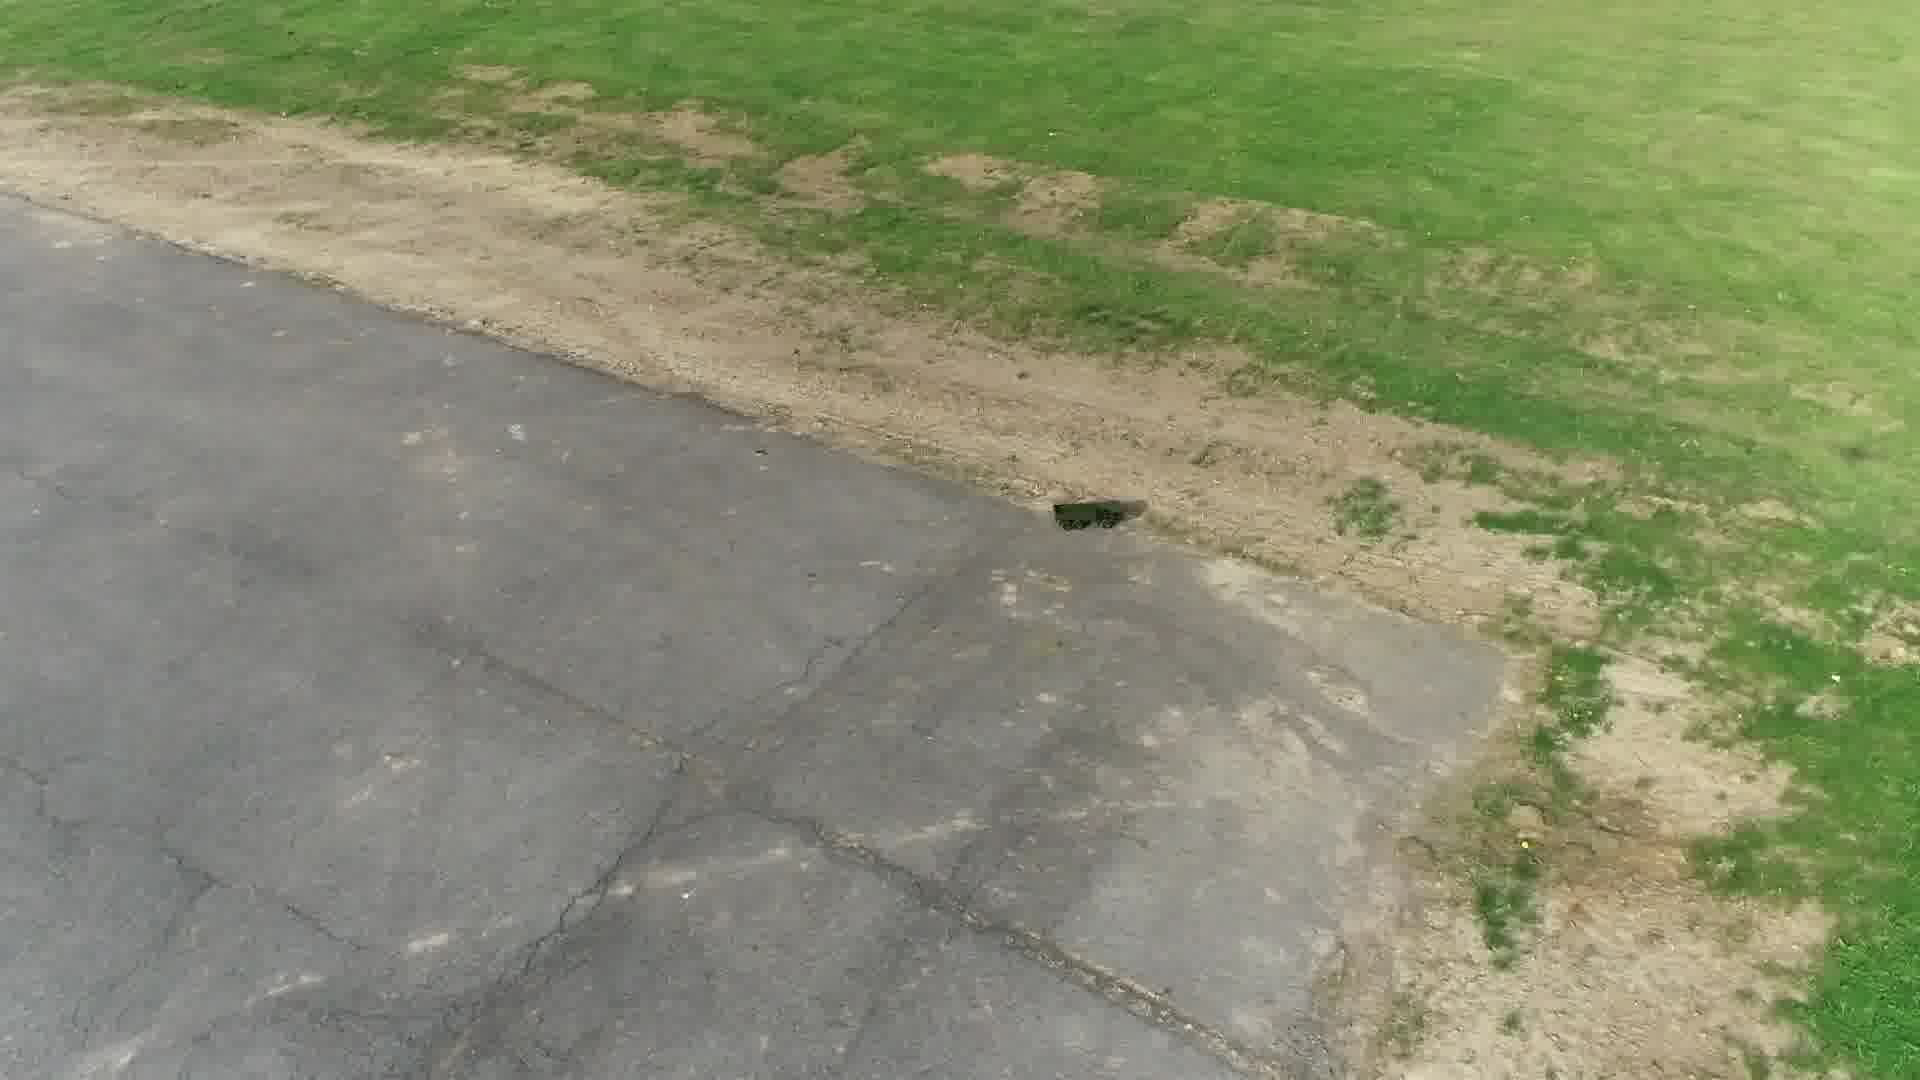transporter9: (1050, 498, 1127, 533)
